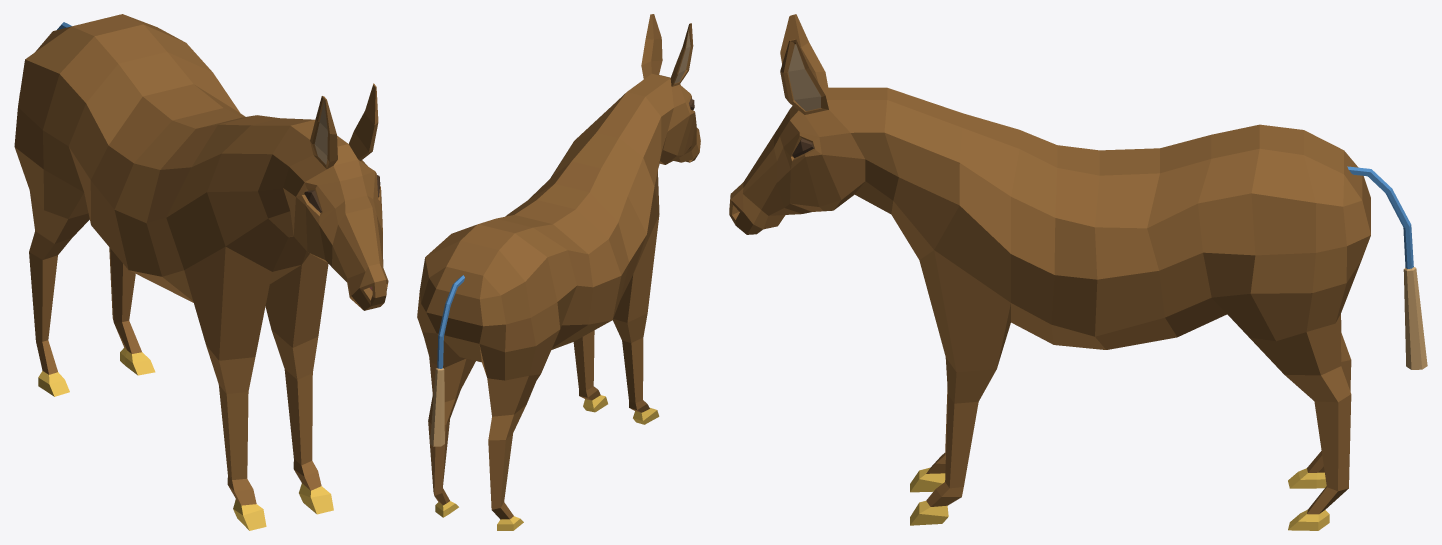
The model's file is donkey_a.gltf.
3 renders of one model, left to right at view 1: azimuth 30°, elevation 25°; view 2: azimuth 150°, elevation 25°; view 3: azimuth 270°, elevation 25°, orthographic. The views are drawn at different scales.
Visible parts, largest first — view 1: donkey_a001; view 2: donkey_a001; view 3: donkey_a001.
Boxes of the visible parts, x1=… form: donkey_a001: x1=14, y1=14, x2=388, y2=530; donkey_a001: x1=417, y1=14, x2=700, y2=530; donkey_a001: x1=729, y1=14, x2=1427, y2=530.
Size of the model in its own units: 0.5439 by 1.45 by 1.92.
Materials: 1 (1 with a texture image).
